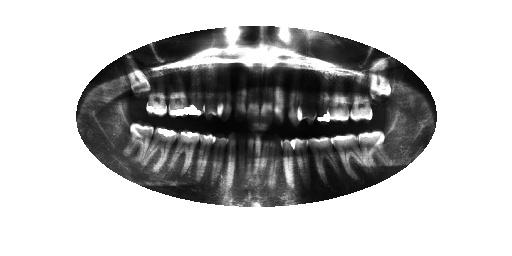i10decay: (224, 127, 240, 192)
i11healthy: (208, 130, 230, 188)
i12healthy: (195, 127, 219, 189)
i13healthy: (166, 127, 203, 180)
i14healthy: (142, 118, 180, 178)
i15healthy: (119, 112, 155, 170)
i16loss: (112, 102, 140, 144)
i1healthy: (356, 128, 393, 171)
i2healthy: (329, 132, 370, 177)
i3healthy: (306, 133, 344, 182)
i4healthy: (290, 135, 313, 185)
i5chipped: (278, 132, 299, 189)
i6decay: (267, 133, 281, 190)
i7decay: (260, 131, 272, 186)
i8decay: (245, 126, 262, 184)
i9decay: (235, 125, 249, 185)
u10decay: (233, 62, 248, 124)
u11decay: (216, 65, 233, 119)
u12decay: (199, 65, 217, 118)
u13healthy: (188, 61, 205, 119)
u14healthy: (165, 65, 190, 120)
u15healthy: (142, 68, 169, 118)
u16healthy: (121, 53, 154, 99)
u1healthy: (365, 58, 394, 104)
u2healthy: (349, 63, 374, 125)
u3healthy: (328, 68, 351, 126)
u4decay: (316, 69, 331, 123)
u5decay: (300, 67, 317, 124)
u6healthy: (285, 62, 303, 125)
u7decay: (271, 65, 287, 125)
u8decay: (258, 64, 273, 127)
u9decay: (244, 62, 260, 125)
